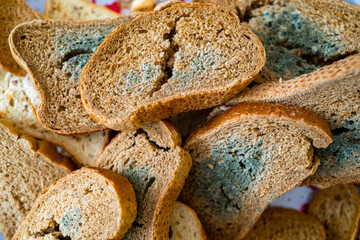mold_bread: (194, 133, 265, 226), (249, 8, 349, 69), (47, 25, 113, 77), (323, 110, 360, 184), (173, 50, 217, 86), (115, 160, 157, 192), (121, 64, 163, 93), (56, 206, 88, 236)
